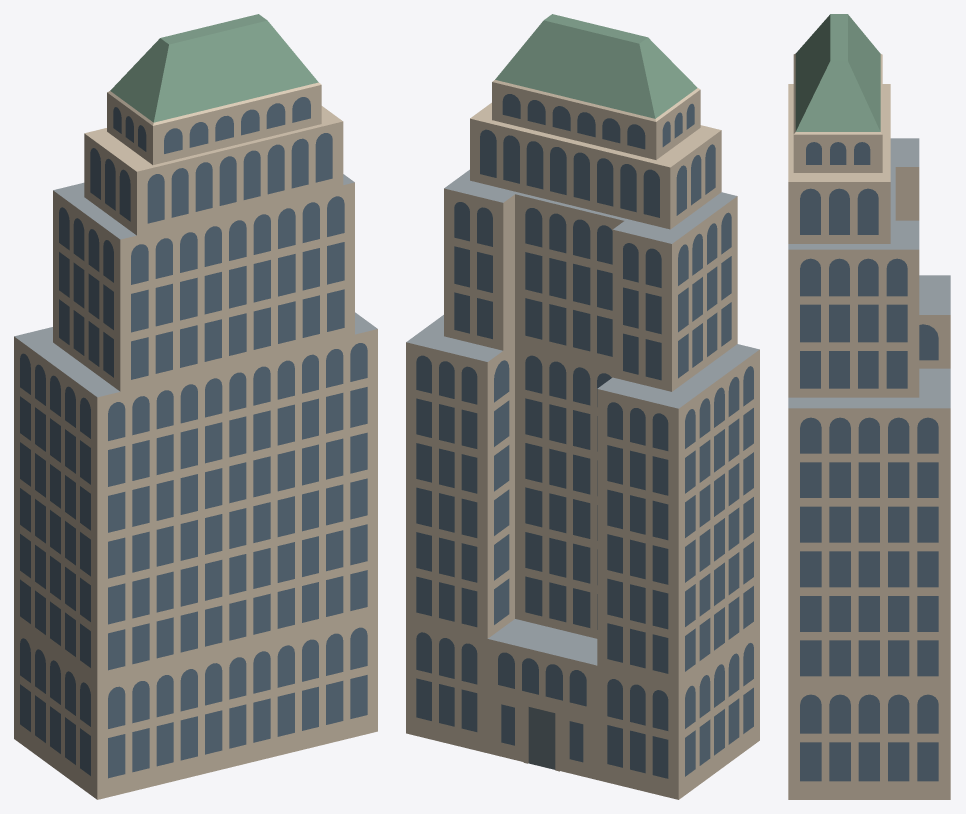
File: pit-koppers-tower.glb
3 views of the same model, side by side, from view 1: azimuth 30°, elevation 25°; view 2: azimuth 150°, elevation 25°; view 3: azimuth 270°, elevation 25° (orthographic). The views are drawn at different scales.
Visible parts, largest first — view 1: Koppers Tower; view 2: Koppers Tower; view 3: Koppers Tower.
Boxes of the visible parts, x1,y1,x2,y2 form: Koppers Tower: (14, 14, 377, 799); Koppers Tower: (406, 14, 759, 799); Koppers Tower: (788, 14, 950, 799).
Size of the model in its own units: 59.88 by 146 by 31.09.
